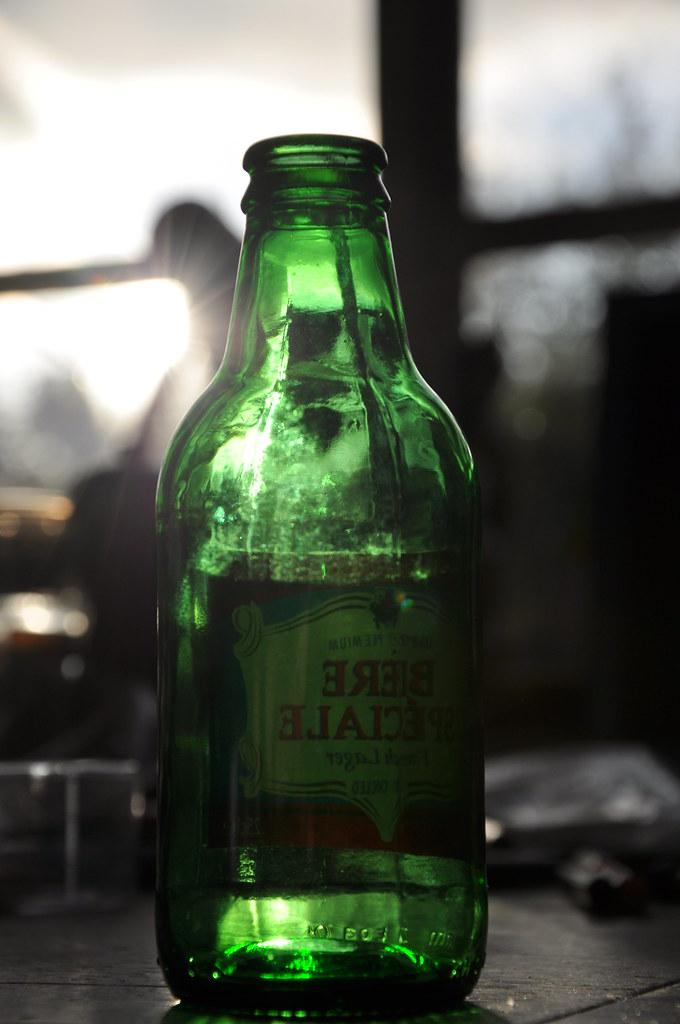bottle: (154, 132, 490, 1013)
